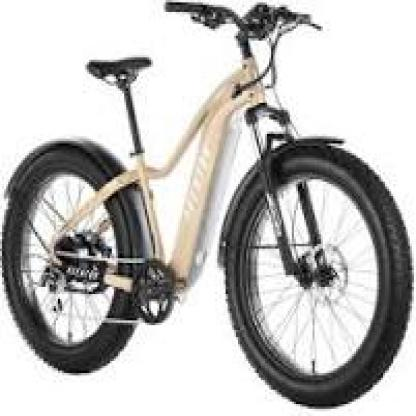Bike: (2, 2, 416, 407)
